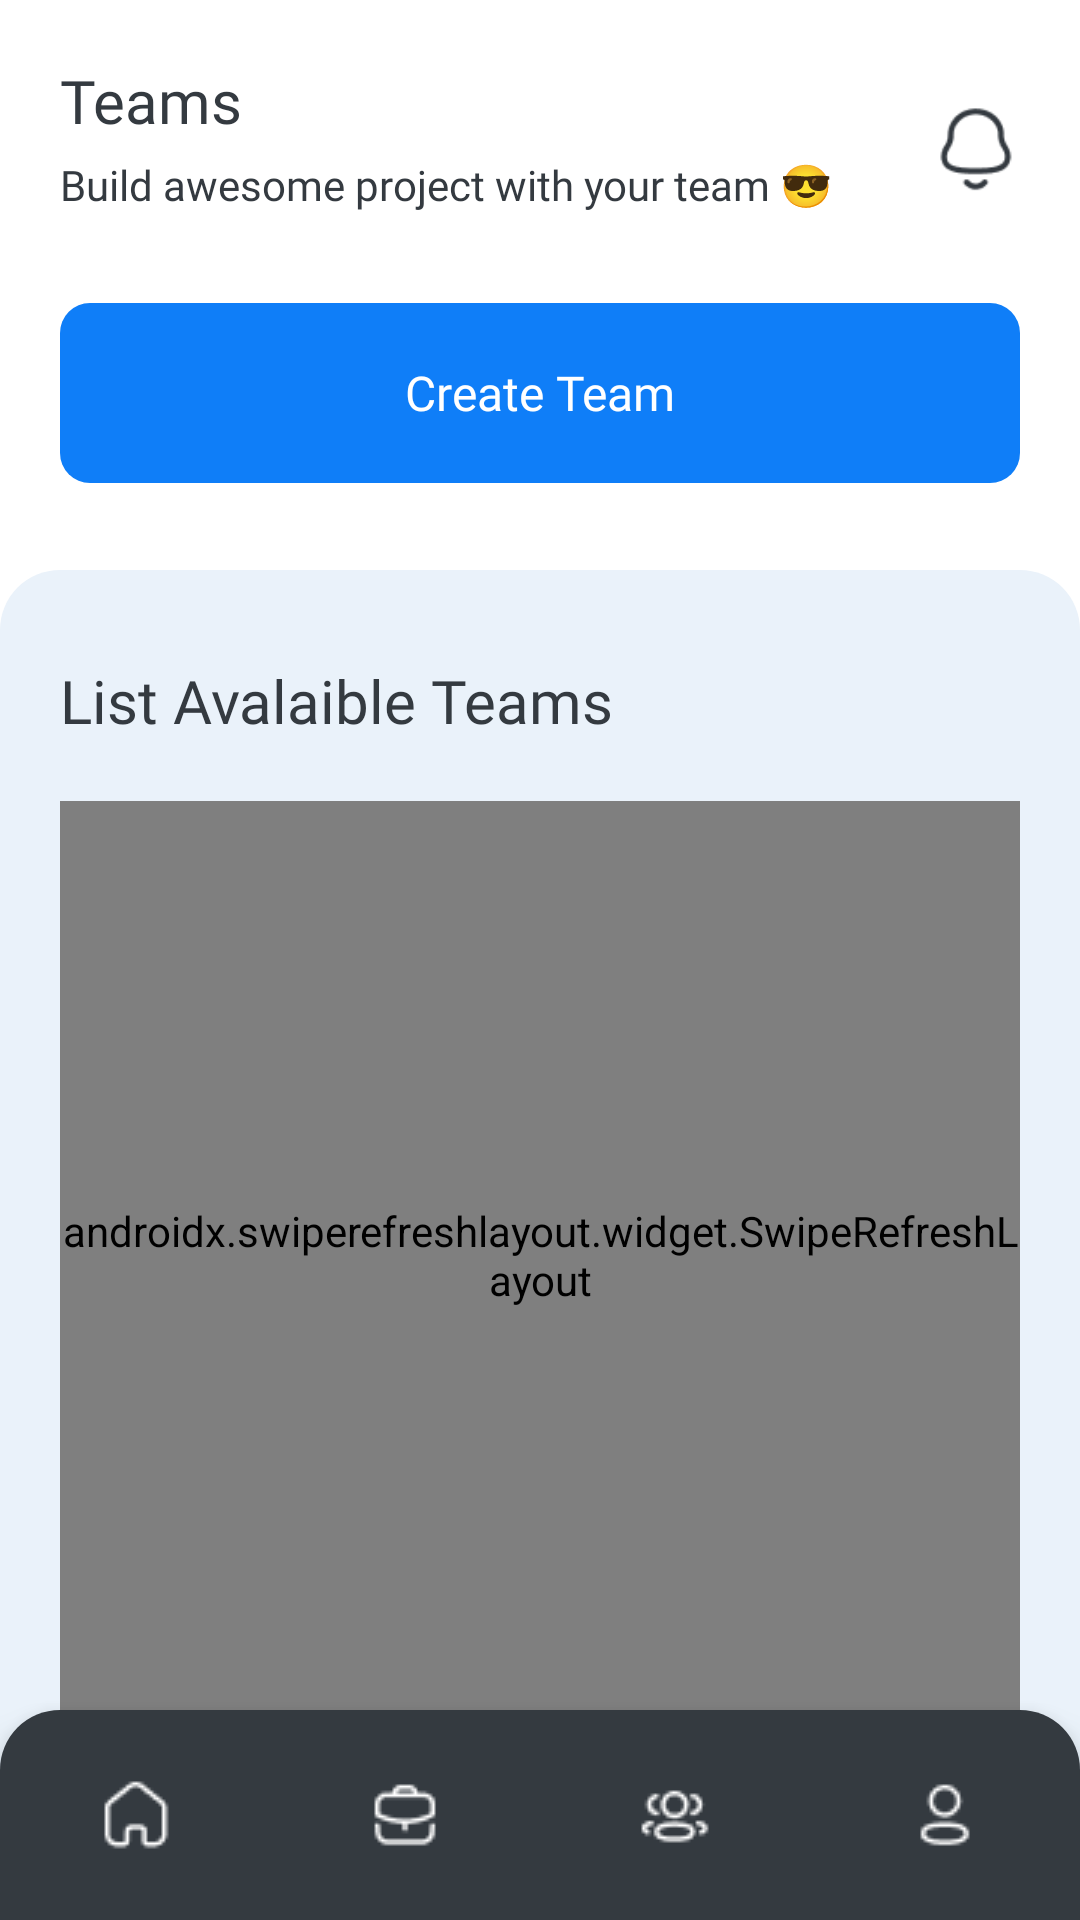

Where to tap for icons on this 1080x1920 app screen, as (x=x, y=y):
notification: (x=976, y=149)
